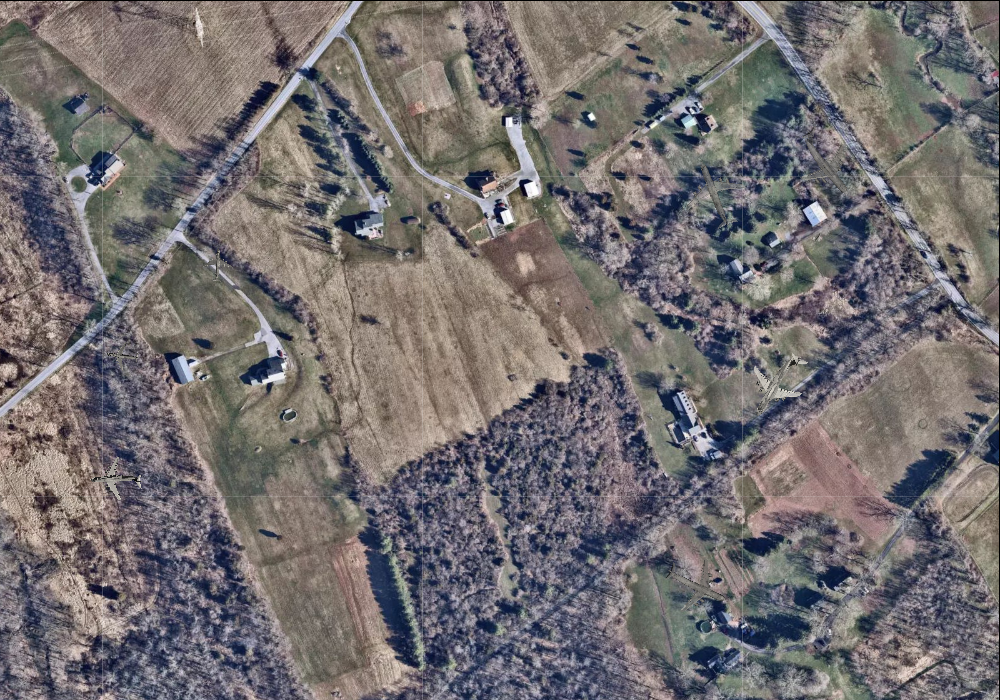plane: (777, 111, 876, 212), (731, 337, 825, 433), (672, 149, 758, 238), (653, 543, 740, 628), (88, 454, 143, 506), (104, 338, 140, 373), (200, 247, 233, 282)
